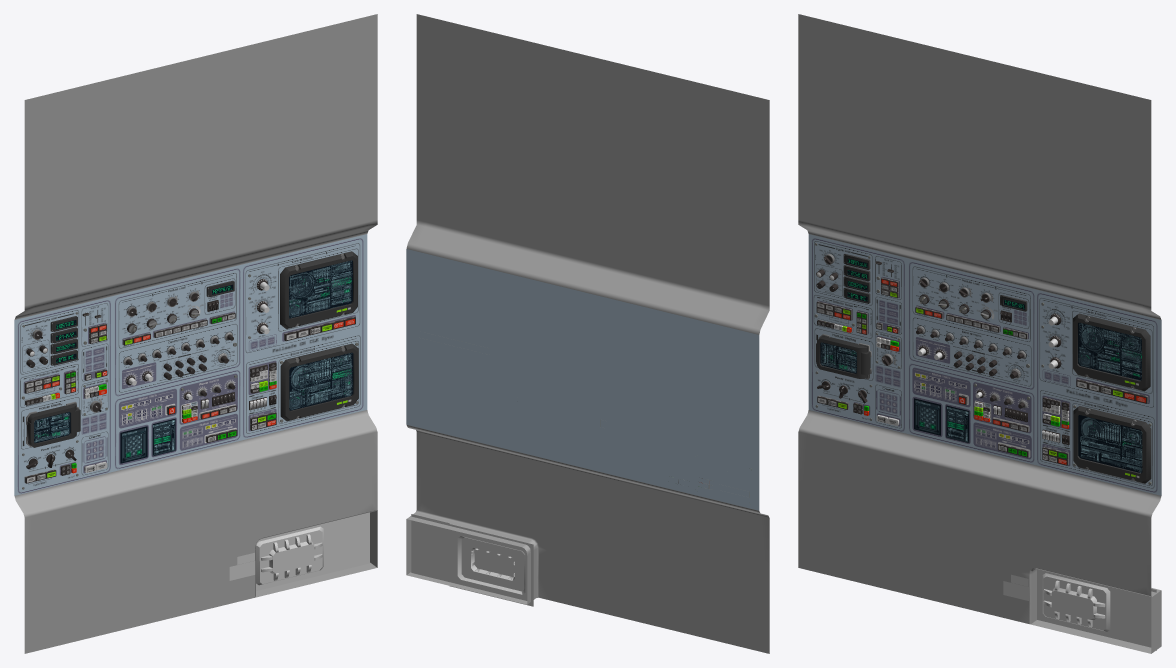
Rendered from Wall_112_ControlPanel_2x3.fbx.
The picture shows the model from 3 angles, left to right: view 1: azimuth 30°, elevation 25°; view 2: azimuth 150°, elevation 25°; view 3: azimuth 330°, elevation 25°; orthographic projection.
Visible parts, largest first — view 1: Wall_112_ControlPanel_2x3, Plane.027, LOD_0.072, Plane.029, LOD_0.067, LOD_0.073, LOD_0.050, LOD_0.075, Screen_01.042, LOD_0.063, LOD_0.059, LOD_0.074 (+16 smaller); view 2: Wall_112_ControlPanel_2x3, Plane.029; view 3: Wall_112_ControlPanel_2x3, Plane.027, LOD_0.072, Plane.029, LOD_0.067, LOD_0.073, LOD_0.050, LOD_0.075, Screen_01.042, LOD_0.063, LOD_0.059, LOD_0.074 (+15 smaller).
Part boxes in pixels (box(x1,y1,x2,y2)): Wall_112_ControlPanel_2x3: box(14, 14, 377, 653); Plane.027: box(17, 237, 364, 495); LOD_0.072: box(245, 242, 360, 353); Plane.029: box(256, 512, 369, 591); LOD_0.067: box(118, 272, 236, 348); LOD_0.073: box(246, 335, 360, 434); LOD_0.050: box(118, 323, 237, 393); LOD_0.075: box(20, 309, 79, 375); Screen_01.042: box(289, 260, 352, 317); LOD_0.063: box(179, 373, 237, 425); LOD_0.059: box(20, 363, 78, 408); LOD_0.074: box(118, 388, 177, 428); Wall_112_ControlPanel_2x3: box(406, 14, 769, 653); Plane.029: box(411, 514, 533, 606); Wall_112_ControlPanel_2x3: box(798, 14, 1161, 653); Plane.027: box(811, 237, 1158, 494); LOD_0.072: box(1039, 297, 1153, 408); Plane.029: box(1037, 569, 1156, 650); LOD_0.067: box(912, 266, 1030, 342); LOD_0.073: box(1040, 389, 1154, 489); LOD_0.050: box(912, 317, 1031, 386); LOD_0.075: box(814, 240, 872, 305); Screen_01.042: box(1078, 323, 1141, 380); LOD_0.063: box(973, 381, 1031, 433); LOD_0.059: box(813, 294, 872, 339); LOD_0.074: box(912, 367, 970, 407).
Size of what is drawn, in the model's own units: 2 by 3.02 by 0.1019.
